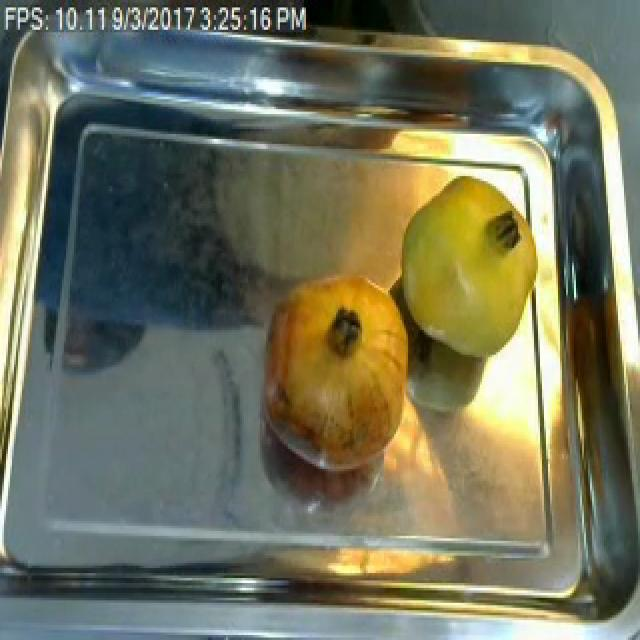fruit: (256, 263, 422, 486), (388, 163, 546, 370)
